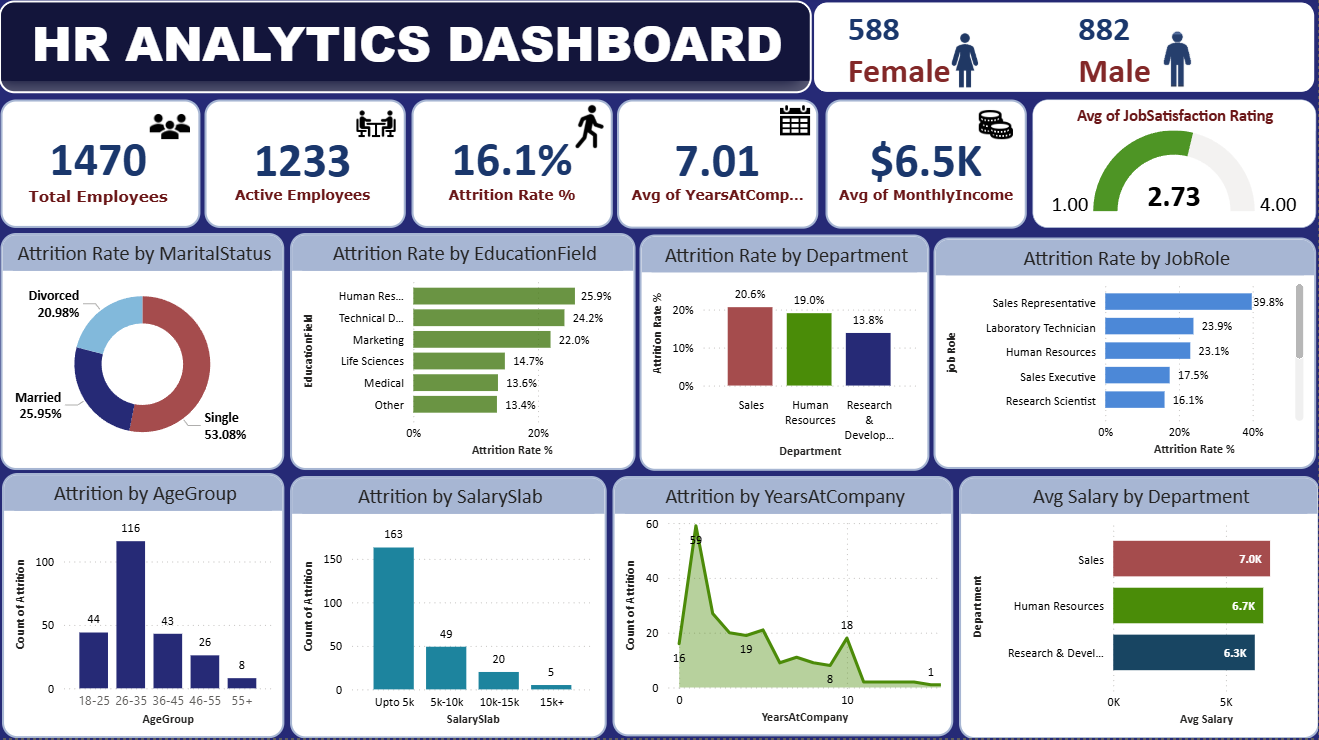

The dashboard page shown, as its layout file describes it:
{"tool":"powerbi","page":{"name":"Page 1","canvas":[1280,720],"ordinal":0},"visuals":[{"type":"card","fields":{"Values":["HR_Analytics.Attrition Rate"]},"box":[399.9,100.4,195,124.7],"z":0},{"type":"card","fields":{"Values":["HR_Analytics.Total Employees"]},"box":[1.6,100.4,194.3,124.7],"z":1000},{"type":"columnChart","title":"Attrition Rate by Department","fields":{"Category":["HR_Analytics.Department"],"Y":["HR_Analytics.Attrition Rate %"]},"box":[621.6,231.6,281,229.2],"z":2000},{"type":"columnChart","title":"Attrition  by SalarySlab","fields":{"Category":["HR_Analytics.SalarySlab"],"Y":["HR_Analytics.Count of Attrition"]},"box":[282.4,465.8,307.1,254.7],"z":4000},{"type":"multiRowCard","fields":{"Values":["HR_Analytics.Female","HR_Analytics.Male"]},"box":[788.6,4.9,489,90.7],"z":5000},{"type":"barChart","fields":{"Category":["HR_Analytics.Department"],"Y":["HR_Analytics.Avg Salary"]},"box":[931.1,465.6,349.8,255.2],"z":6000},{"type":"barChart","title":"Attrition Rate by EducationField","fields":{"Category":["HR_Analytics.EducationField"],"Y":["HR_Analytics.Attrition Rate %"]},"box":[281.7,229.9,335.2,229.9],"z":7000},{"type":"areaChart","title":" Attrition by YearsAtCompany","fields":{"Category":["HR_Analytics.YearsAtCompany"],"Y":["HR_Analytics.Count of Attrition"]},"box":[595.6,465.6,330.9,252.9],"z":8000},{"type":"donutChart","title":"Attrition Rate by MaritalStatus","fields":{"Category":["HR_Analytics.MaritalStatus"],"Y":["HR_Analytics.Attrition Rate"]},"box":[1.6,229.9,275.3,229.9],"z":9000},{"type":"card","fields":{"Values":["Avg(HR_Analytics.MonthlyIncome)"]},"box":[801.5,100.4,195,125],"z":10000},{"type":"card","fields":{"Values":["Avg(HR_Analytics.YearsAtCompany)"]},"box":[600,100,195,125],"z":11000},{"type":"gauge","title":"Avg of JobSatisfaction Rating","fields":{"Y":["Avg(HR_Analytics.JobSatisfaction)"]},"box":[1002.3,100.4,275.3,124.7],"z":12000},{"type":"textbox","title":"HR ANALYTICS DASHBOARD   ","box":[0,5,788.3,90],"z":13000},{"type":"card","fields":{"Values":["HR_Analytics.Active Employees"]},"box":[199.2,100.4,195,124.7],"z":14000},{"type":"barChart","title":"Attrition Rate by JobRole","fields":{"Category":["HR_Analytics.JobRole"],"Y":["HR_Analytics.Attrition Rate %"]},"box":[907.5,234,371,224.5],"z":15000},{"type":"image","box":[1109.2,25.9,68,69.6],"z":16000},{"type":"image","box":[897.1,29.1,81,66.4],"z":17000},{"type":"image","box":[136.7,98.3,63.3,55],"z":18000},{"type":"image","box":[331.7,95,68.3,58.3],"z":19000},{"type":"image","box":[931.1,100.4,69.6,48.6],"z":20000},{"type":"image","box":[544.1,95.5,56.7,61.5],"z":21000},{"type":"image","box":[743.3,95,56.7,51.7],"z":22000},{"type":"columnChart","title":"Attrition  by AgeGroup","fields":{"Category":["HR_Analytics.AgeGroup"],"Y":["HR_Analytics.Count of Attrition"]},"box":[2.4,463.2,274.1,257.6],"z":23000}]}

Visuals, with their boxes in screenshot pixels (x1, y1, x2, y2), scaled from the page's 1280x720 canvas onto the 1319x740 screenshot:
card - HR_Analytics.Attrition Rate: [left=412, top=103, right=613, bottom=231]
card - HR_Analytics.Total Employees: [left=2, top=103, right=202, bottom=231]
"Attrition Rate by Department" columnChart: [left=641, top=238, right=930, bottom=474]
"Attrition  by SalarySlab" columnChart: [left=291, top=479, right=607, bottom=739]
multiRowCard - HR_Analytics.Female x HR_Analytics.Male: [left=813, top=5, right=1317, bottom=98]
barChart - HR_Analytics.Department x HR_Analytics.Avg Salary: [left=959, top=479, right=1318, bottom=739]
"Attrition Rate by EducationField" barChart: [left=290, top=236, right=636, bottom=473]
" Attrition by YearsAtCompany" areaChart: [left=614, top=479, right=955, bottom=738]
"Attrition Rate by MaritalStatus" donutChart: [left=2, top=236, right=285, bottom=473]
card - Avg(HR_Analytics.MonthlyIncome): [left=826, top=103, right=1027, bottom=232]
card - Avg(HR_Analytics.YearsAtCompany): [left=618, top=103, right=819, bottom=231]
"Avg of JobSatisfaction Rating" gauge: [left=1033, top=103, right=1317, bottom=231]
"HR ANALYTICS DASHBOARD   " textbox: [left=0, top=5, right=812, bottom=98]
card - HR_Analytics.Active Employees: [left=205, top=103, right=406, bottom=231]
"Attrition Rate by JobRole" barChart: [left=935, top=240, right=1317, bottom=471]
image: [left=1143, top=27, right=1213, bottom=98]
image: [left=924, top=30, right=1008, bottom=98]
image: [left=141, top=101, right=206, bottom=158]
image: [left=342, top=98, right=412, bottom=158]
image: [left=959, top=103, right=1031, bottom=153]
image: [left=561, top=98, right=619, bottom=161]
image: [left=766, top=98, right=824, bottom=151]
"Attrition  by AgeGroup" columnChart: [left=2, top=476, right=285, bottom=739]
